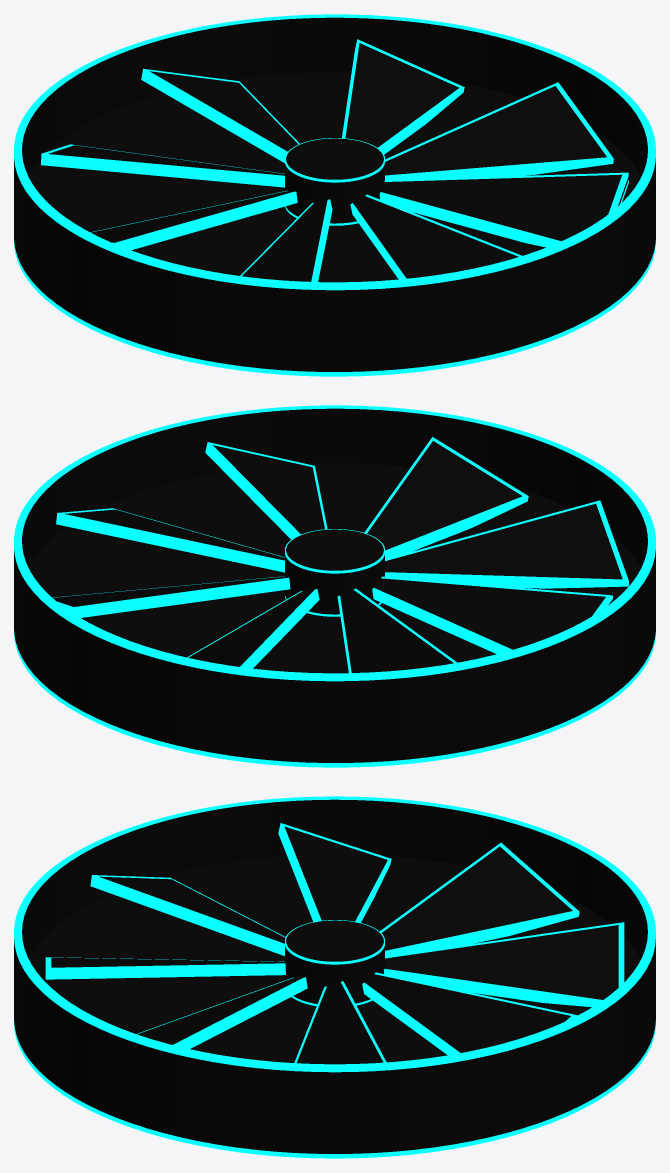
The model's file is vent.fbx.
3 renders of one model, top to bottom at view 1: azimuth 30°, elevation 25°; view 2: azimuth 150°, elevation 25°; view 3: azimuth 270°, elevation 25°, orthographic.
Visible parts, largest first — view 1: Cylinder, Boole_2, Boole, Boole_7, Boole_4, Cylinder_1, Boole_8, Boole_5, Boole_6, Boole_3; view 2: Cylinder, Boole_3, Boole_6, Boole_4, Cylinder_1, Boole, Boole_5, Boole_2, Boole_7, Boole_8; view 3: Cylinder, Boole_8, Boole_5, Boole_7, Boole_6, Cylinder_1, Boole_3, Boole_2, Boole_4, Boole.
Boxes of the visible parts, x1=… form: Cylinder: x1=14, y1=14, x2=655, y2=376; Boole_2: x1=385, y1=82, x2=613, y2=179; Boole: x1=379, y1=172, x2=628, y2=247; Boole_7: x1=342, y1=39, x2=464, y2=154; Boole_4: x1=350, y1=194, x2=521, y2=279; Cylinder_1: x1=285, y1=138, x2=384, y2=225; Boole_8: x1=141, y1=68, x2=299, y2=162; Boole_5: x1=41, y1=144, x2=284, y2=187; Boole_6: x1=90, y1=190, x2=297, y2=250; Boole_3: x1=240, y1=199, x2=332, y2=281; Cylinder: x1=14, y1=405, x2=655, y2=767; Boole_3: x1=385, y1=500, x2=628, y2=588; Boole_6: x1=372, y1=576, x2=613, y2=653; Boole_4: x1=364, y1=437, x2=528, y2=558; Cylinder_1: x1=285, y1=529, x2=384, y2=616; Boole: x1=205, y1=442, x2=327, y2=539; Boole_5: x1=337, y1=588, x2=456, y2=673; Boole_2: x1=56, y1=508, x2=284, y2=572; Boole_7: x1=52, y1=576, x2=290, y2=617; Boole_8: x1=187, y1=589, x2=319, y2=668; Cylinder: x1=14, y1=796, x2=655, y2=1158; Boole_8: x1=384, y1=922, x2=624, y2=1007; Boole_5: x1=380, y1=843, x2=579, y2=956; Boole_7: x1=362, y1=972, x2=577, y2=1055; Boole_6: x1=278, y1=823, x2=391, y2=922; Cylinder_1: x1=285, y1=920, x2=384, y2=1006; Boole_3: x1=90, y1=875, x2=285, y2=955; Boole_2: x1=294, y1=981, x2=386, y2=1064; Boole_4: x1=45, y1=957, x2=285, y2=979; Boole: x1=136, y1=977, x2=307, y2=1048.
Size of the model in its own units: 160 by 25 by 160.
